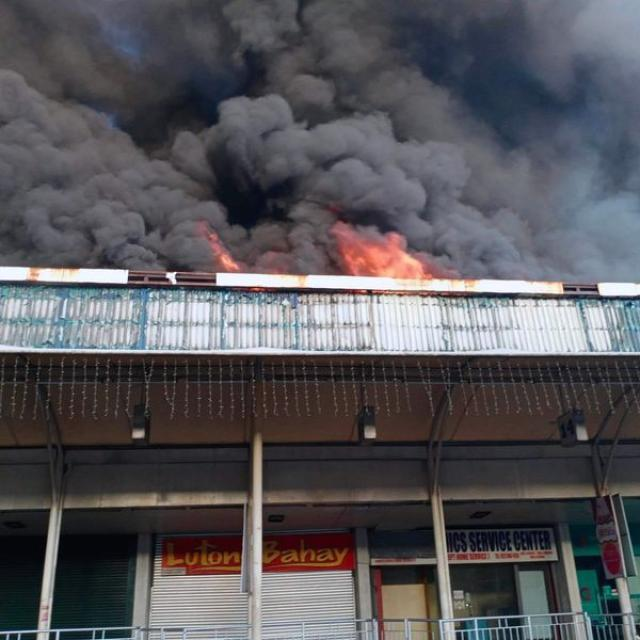Fire: (329, 218, 443, 282), (199, 218, 253, 272)
Smoke: (0, 0, 632, 278)
